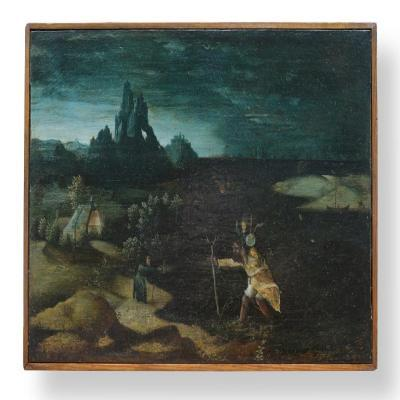painting: (24, 21, 378, 372)
